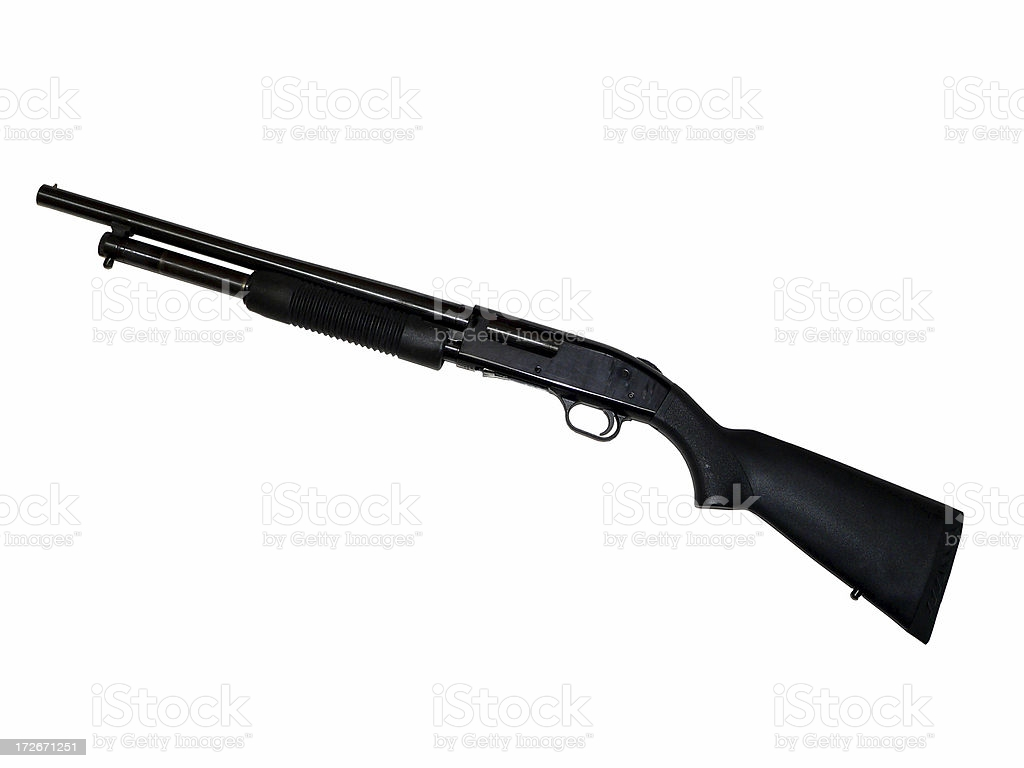Arma Real: (33, 178, 970, 657)
